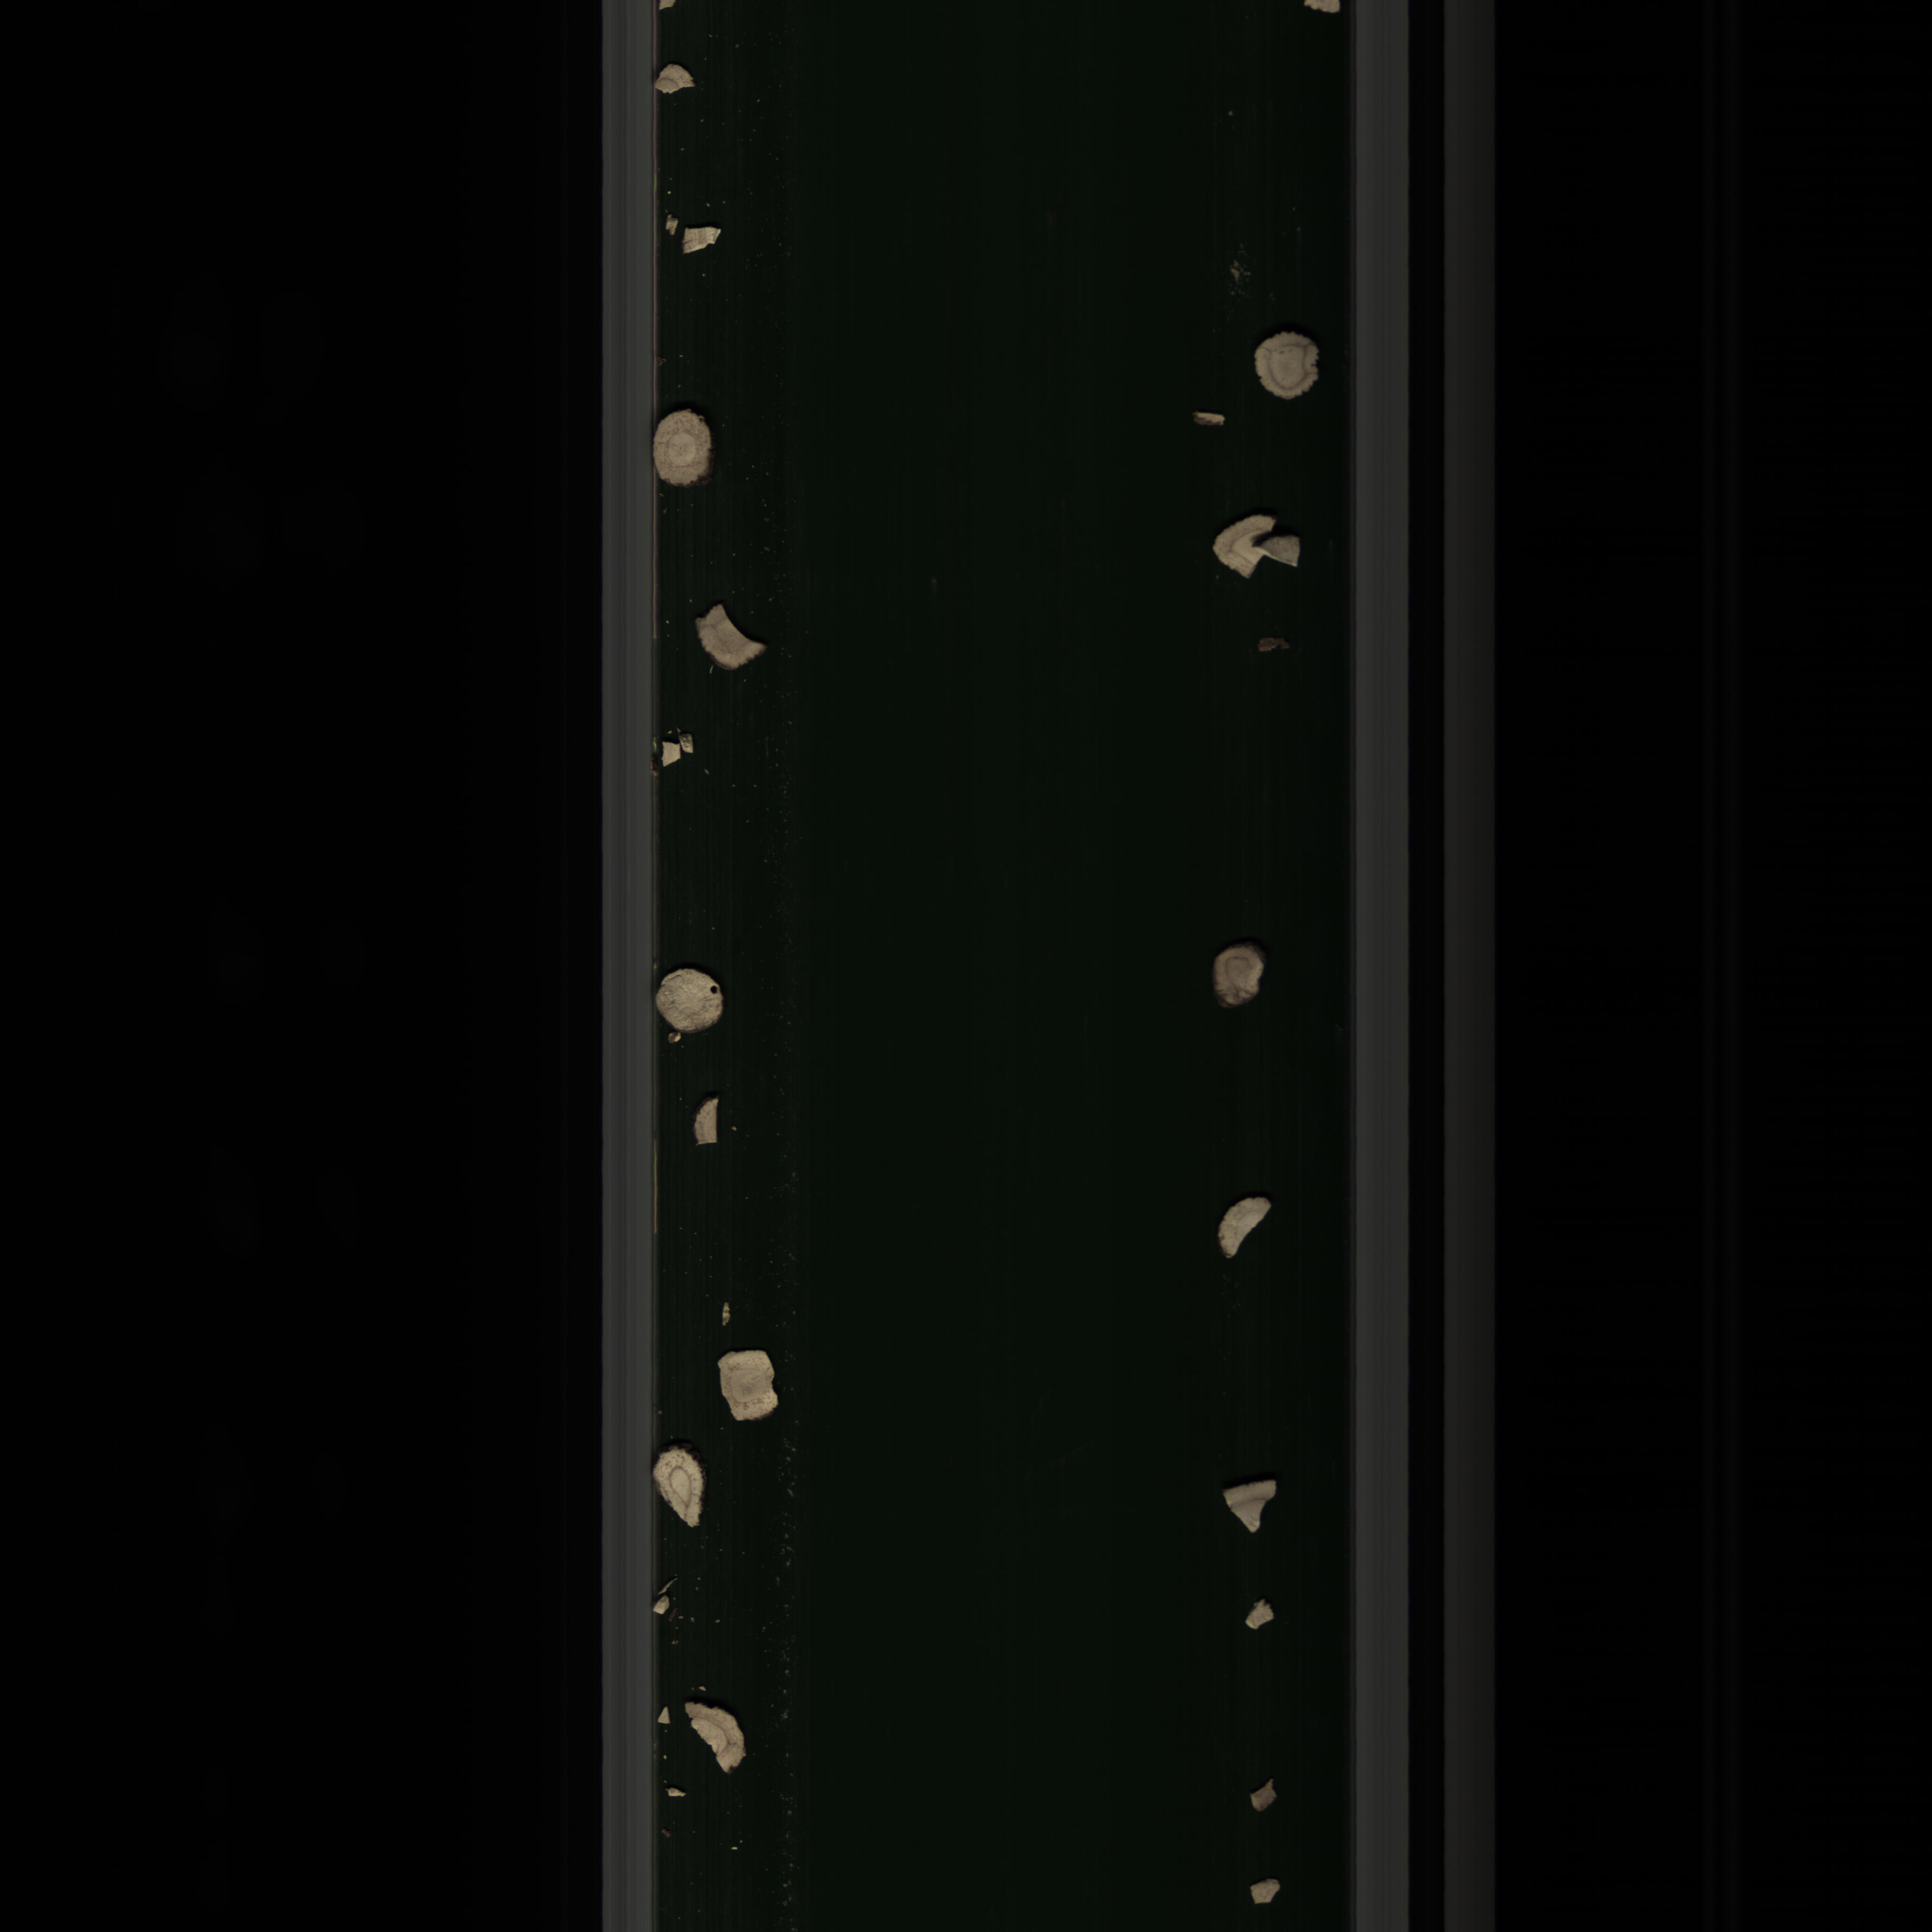bark: (651, 1447, 715, 1530)
debris: (1207, 495, 1304, 582), (715, 1345, 791, 1422), (683, 1691, 752, 1776), (692, 602, 766, 672), (1214, 1474, 1281, 1550), (1214, 1189, 1281, 1260), (686, 1090, 727, 1150), (1238, 1592, 1281, 1633), (1244, 1775, 1283, 1817), (653, 62, 697, 97), (683, 221, 727, 257), (658, 731, 701, 766), (1246, 1877, 1284, 1905)
hole: (655, 962, 725, 1046)
moldy: (1205, 945, 1270, 1014)
